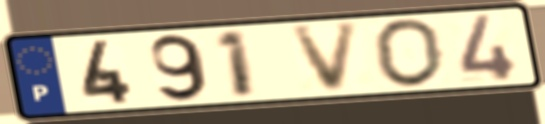1: (214, 27, 263, 100)
4: (454, 12, 519, 84), (79, 37, 136, 106)
9: (147, 32, 212, 104)
O: (370, 17, 449, 90)
V: (288, 19, 364, 95)
